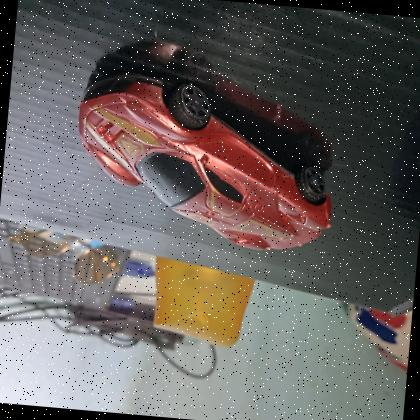Car: (62, 61, 346, 262)
